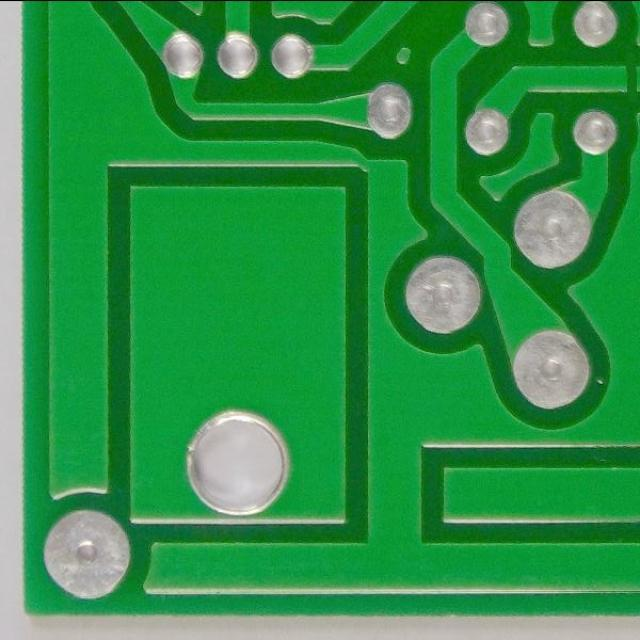open_circuit: (618, 52, 639, 104)
